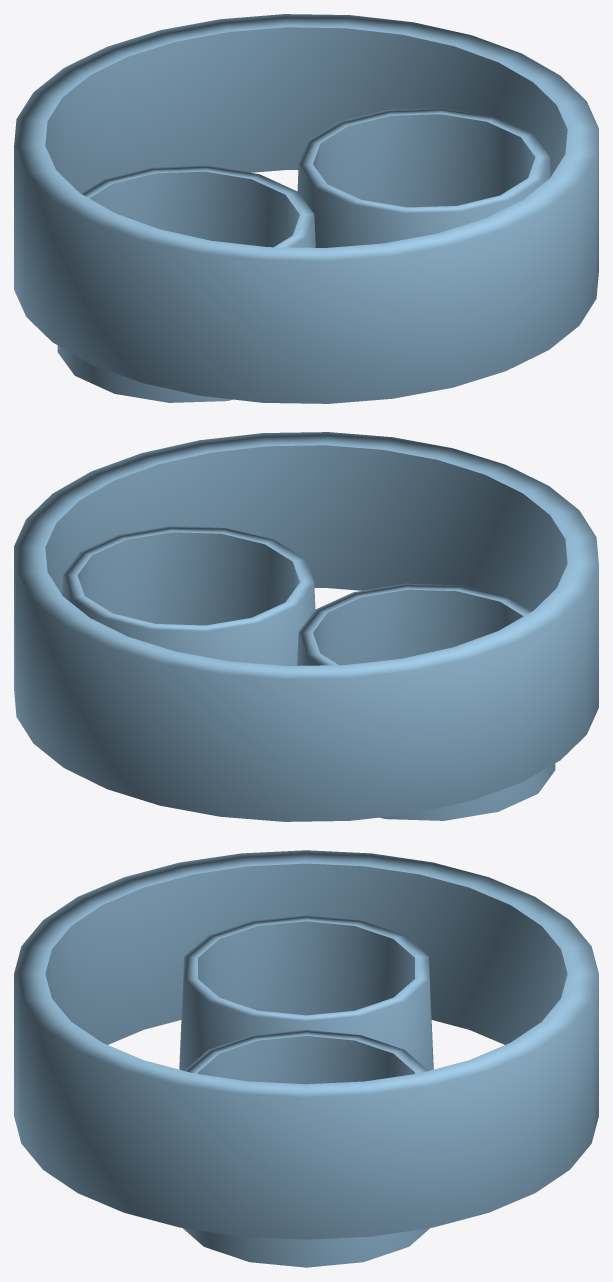
The model's file is diaper.glb.
3 views of the same model, one above another, from view 1: azimuth 30°, elevation 25°; view 2: azimuth 150°, elevation 25°; view 3: azimuth 270°, elevation 25° (orthographic).
Parts seen in each view (by area): view 1: diaper_Body, diaper_LegR, diaper_LegL; view 2: diaper_Body, diaper_LegR, diaper_LegL; view 3: diaper_Body, diaper_LegL, diaper_LegR.
Boxes of the visible parts, <box> form: diaper_Body: <box>14,14,598,403</box>; diaper_LegR: <box>297,108,550,247</box>; diaper_LegL: <box>57,165,315,402</box>; diaper_Body: <box>14,432,598,821</box>; diaper_LegR: <box>62,526,315,665</box>; diaper_LegL: <box>297,583,555,820</box>; diaper_Body: <box>14,850,598,1239</box>; diaper_LegL: <box>179,915,433,1070</box>; diaper_LegR: <box>183,1030,429,1267</box>.
Size of the model in its own units: 0.41 by 0.14 by 0.41.
